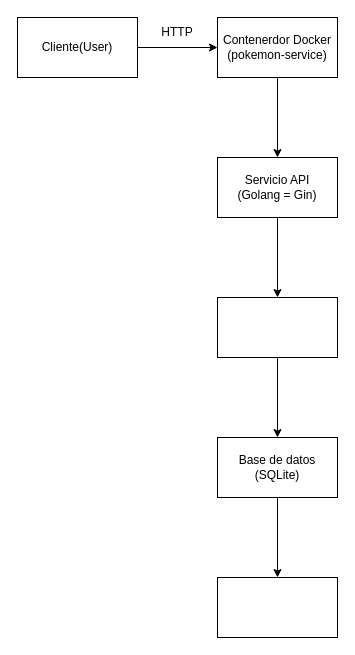
This 355x655 diagram has some shape labels left out. Each missing label, with the centre of its shape:
Lógica de negocio (Services): [277,327]
PokeAPI (Servicio Externo): [277,607]
